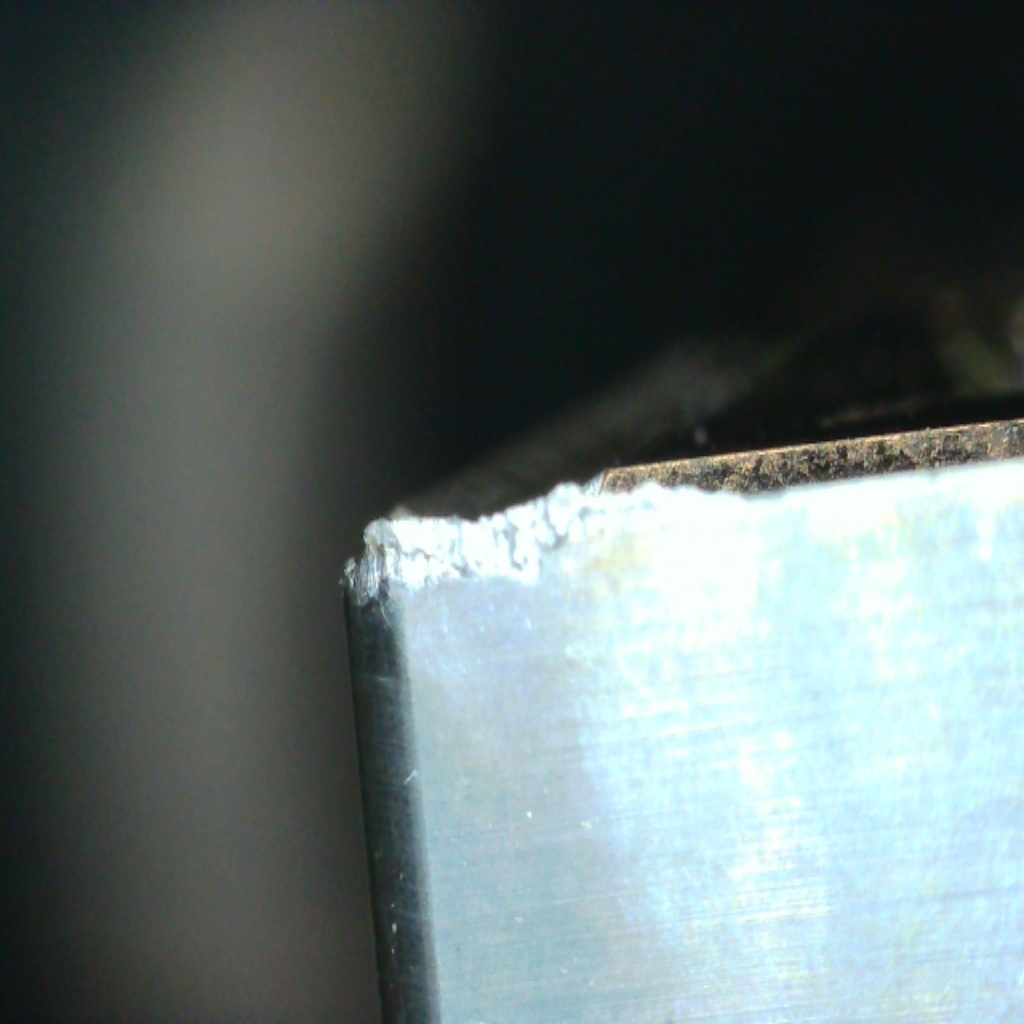flank_wear: (344, 556, 549, 612)
